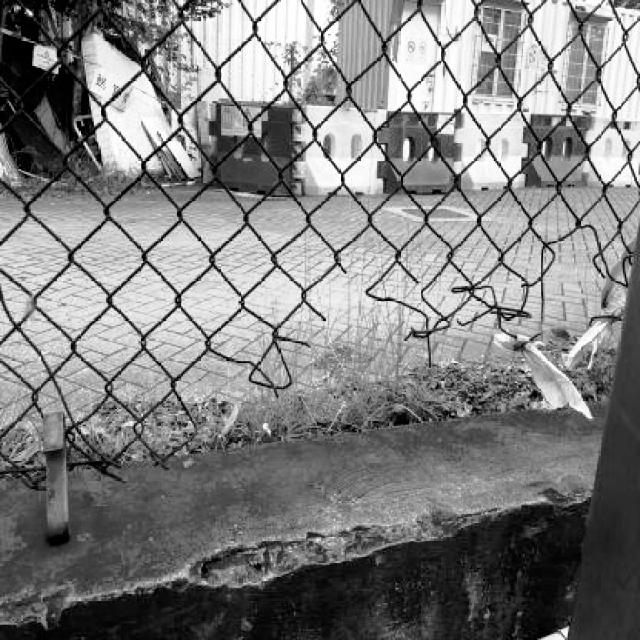anomaly-fence: (104, 262, 625, 443)
